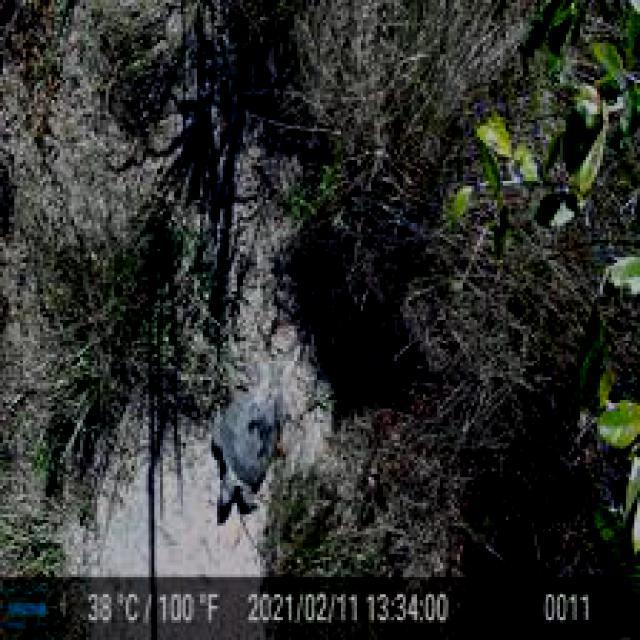tortoise: (212, 374, 275, 522)
